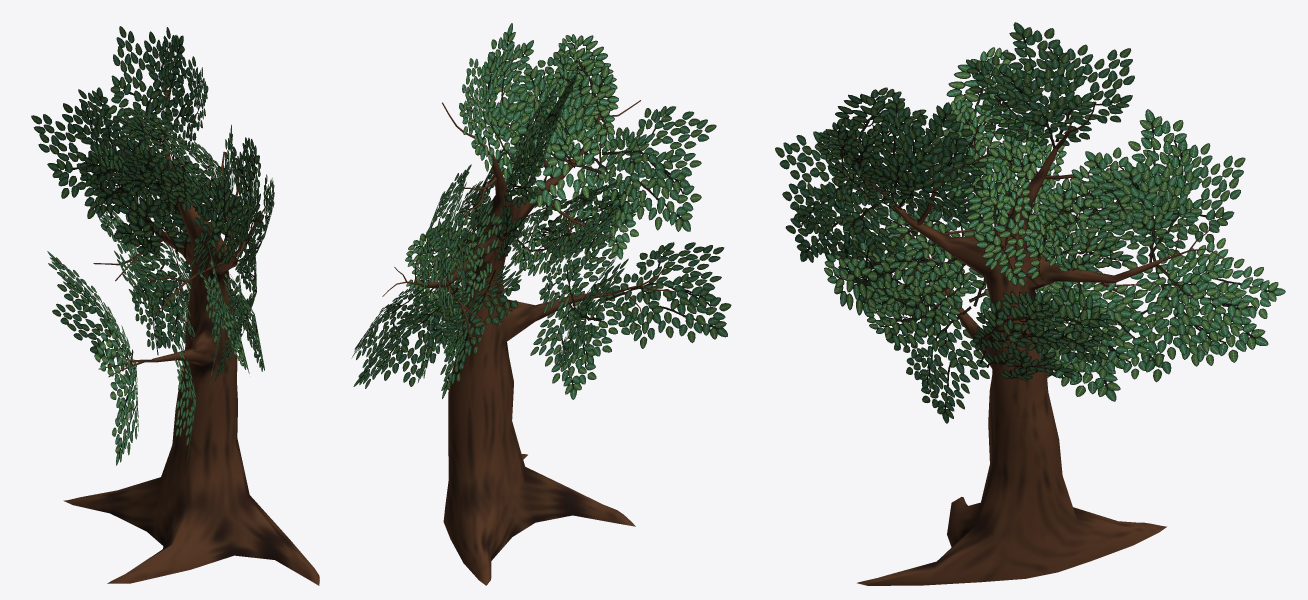
File: arbol4bosque.fbx
The picture shows the model from 3 angles, left to right: view 1: azimuth 30°, elevation 25°; view 2: azimuth 150°, elevation 25°; view 3: azimuth 270°, elevation 25°; orthographic projection. The views are drawn at different scales.
Parts seen in each view (by area): view 1: tronco_Group3, hojasbosque_pPlane29, hojasbosque_pPlane33, hojasbosque_pPlane34, hojasbosque_pPlane37, hojasbosque_pPlane39, hojasbosque_pPlane36, hojasbosque_pPlane31, hojasbosque_pPlane32, hojasbosque_pPlane30, hojasbosque_pPlane12, hojasbosque_pPlane26 (+13 smaller); view 2: tronco_Group3, hojasbosque_pPlane28, hojasbosque_pPlane31, hojasbosque_pPlane29, hojasbosque_pPlane26, hojasbosque_pPlane39, hojasbosque_pPlane14, hojasbosque_pPlane40, hojasbosque_pPlane15, hojasbosque_pPlane30, hojasbosque_pPlane11, hojasbosque_pPlane36 (+16 smaller); view 3: tronco_Group3, hojasbosque_pPlane23, hojasbosque_pPlane16, hojasbosque_pPlane12, hojasbosque_pPlane18, hojasbosque_pPlane33, hojasbosque_pPlane29, hojasbosque_pPlane20, hojasbosque_pPlane40, hojasbosque_pPlane21, hojasbosque_pPlane9, hojasbosque_pPlane19 (+17 smaller).
Part boxes in pixels (left/top/right/bottom): tronco_Group3: left=63, top=135, right=319, bottom=585; hojasbosque_pPlane29: left=107, top=26, right=186, bottom=148; hojasbosque_pPlane33: left=31, top=87, right=129, bottom=218; hojasbosque_pPlane34: left=116, top=107, right=200, bottom=214; hojasbosque_pPlane37: left=109, top=153, right=209, bottom=257; hojasbosque_pPlane39: left=210, top=137, right=260, bottom=268; hojasbosque_pPlane36: left=79, top=143, right=167, bottom=255; hojasbosque_pPlane31: left=94, top=313, right=138, bottom=465; hojasbosque_pPlane32: left=47, top=251, right=134, bottom=378; hojasbosque_pPlane30: left=130, top=246, right=195, bottom=353; hojasbosque_pPlane12: left=156, top=35, right=208, bottom=149; hojasbosque_pPlane26: left=189, top=124, right=235, bottom=278; tronco_Group3: left=421, top=149, right=635, bottom=585; hojasbosque_pPlane28: left=602, top=106, right=716, bottom=231; hojasbosque_pPlane31: left=605, top=242, right=731, bottom=348; hojasbosque_pPlane29: left=465, top=23, right=535, bottom=180; hojasbosque_pPlane26: left=501, top=63, right=601, bottom=212; hojasbosque_pPlane39: left=546, top=34, right=618, bottom=164; hojasbosque_pPlane14: left=530, top=279, right=640, bottom=399; hojasbosque_pPlane40: left=353, top=288, right=471, bottom=388; hojasbosque_pPlane15: left=539, top=202, right=620, bottom=319; hojasbosque_pPlane30: left=440, top=261, right=524, bottom=398; hojasbosque_pPlane11: left=569, top=127, right=670, bottom=259; hojasbosque_pPlane36: left=457, top=201, right=503, bottom=303; tronco_Group3: left=857, top=142, right=1169, bottom=585; hojasbosque_pPlane23: left=1141, top=238, right=1285, bottom=365; hojasbosque_pPlane16: left=1083, top=147, right=1202, bottom=262; hojasbosque_pPlane12: left=966, top=53, right=1096, bottom=149; hojasbosque_pPlane18: left=865, top=241, right=971, bottom=346; hojasbosque_pPlane33: left=1106, top=109, right=1245, bottom=256; hojasbosque_pPlane29: left=994, top=22, right=1134, bottom=141; hojasbosque_pPlane20: left=966, top=171, right=1059, bottom=286; hojasbosque_pPlane40: left=1117, top=246, right=1268, bottom=382; hojasbosque_pPlane21: left=973, top=291, right=1068, bottom=380; hojasbosque_pPlane9: left=873, top=92, right=974, bottom=216; hojasbosque_pPlane19: left=1030, top=163, right=1133, bottom=271.
Size of the model in its own units: 5.45 by 10.71 by 9.55.
